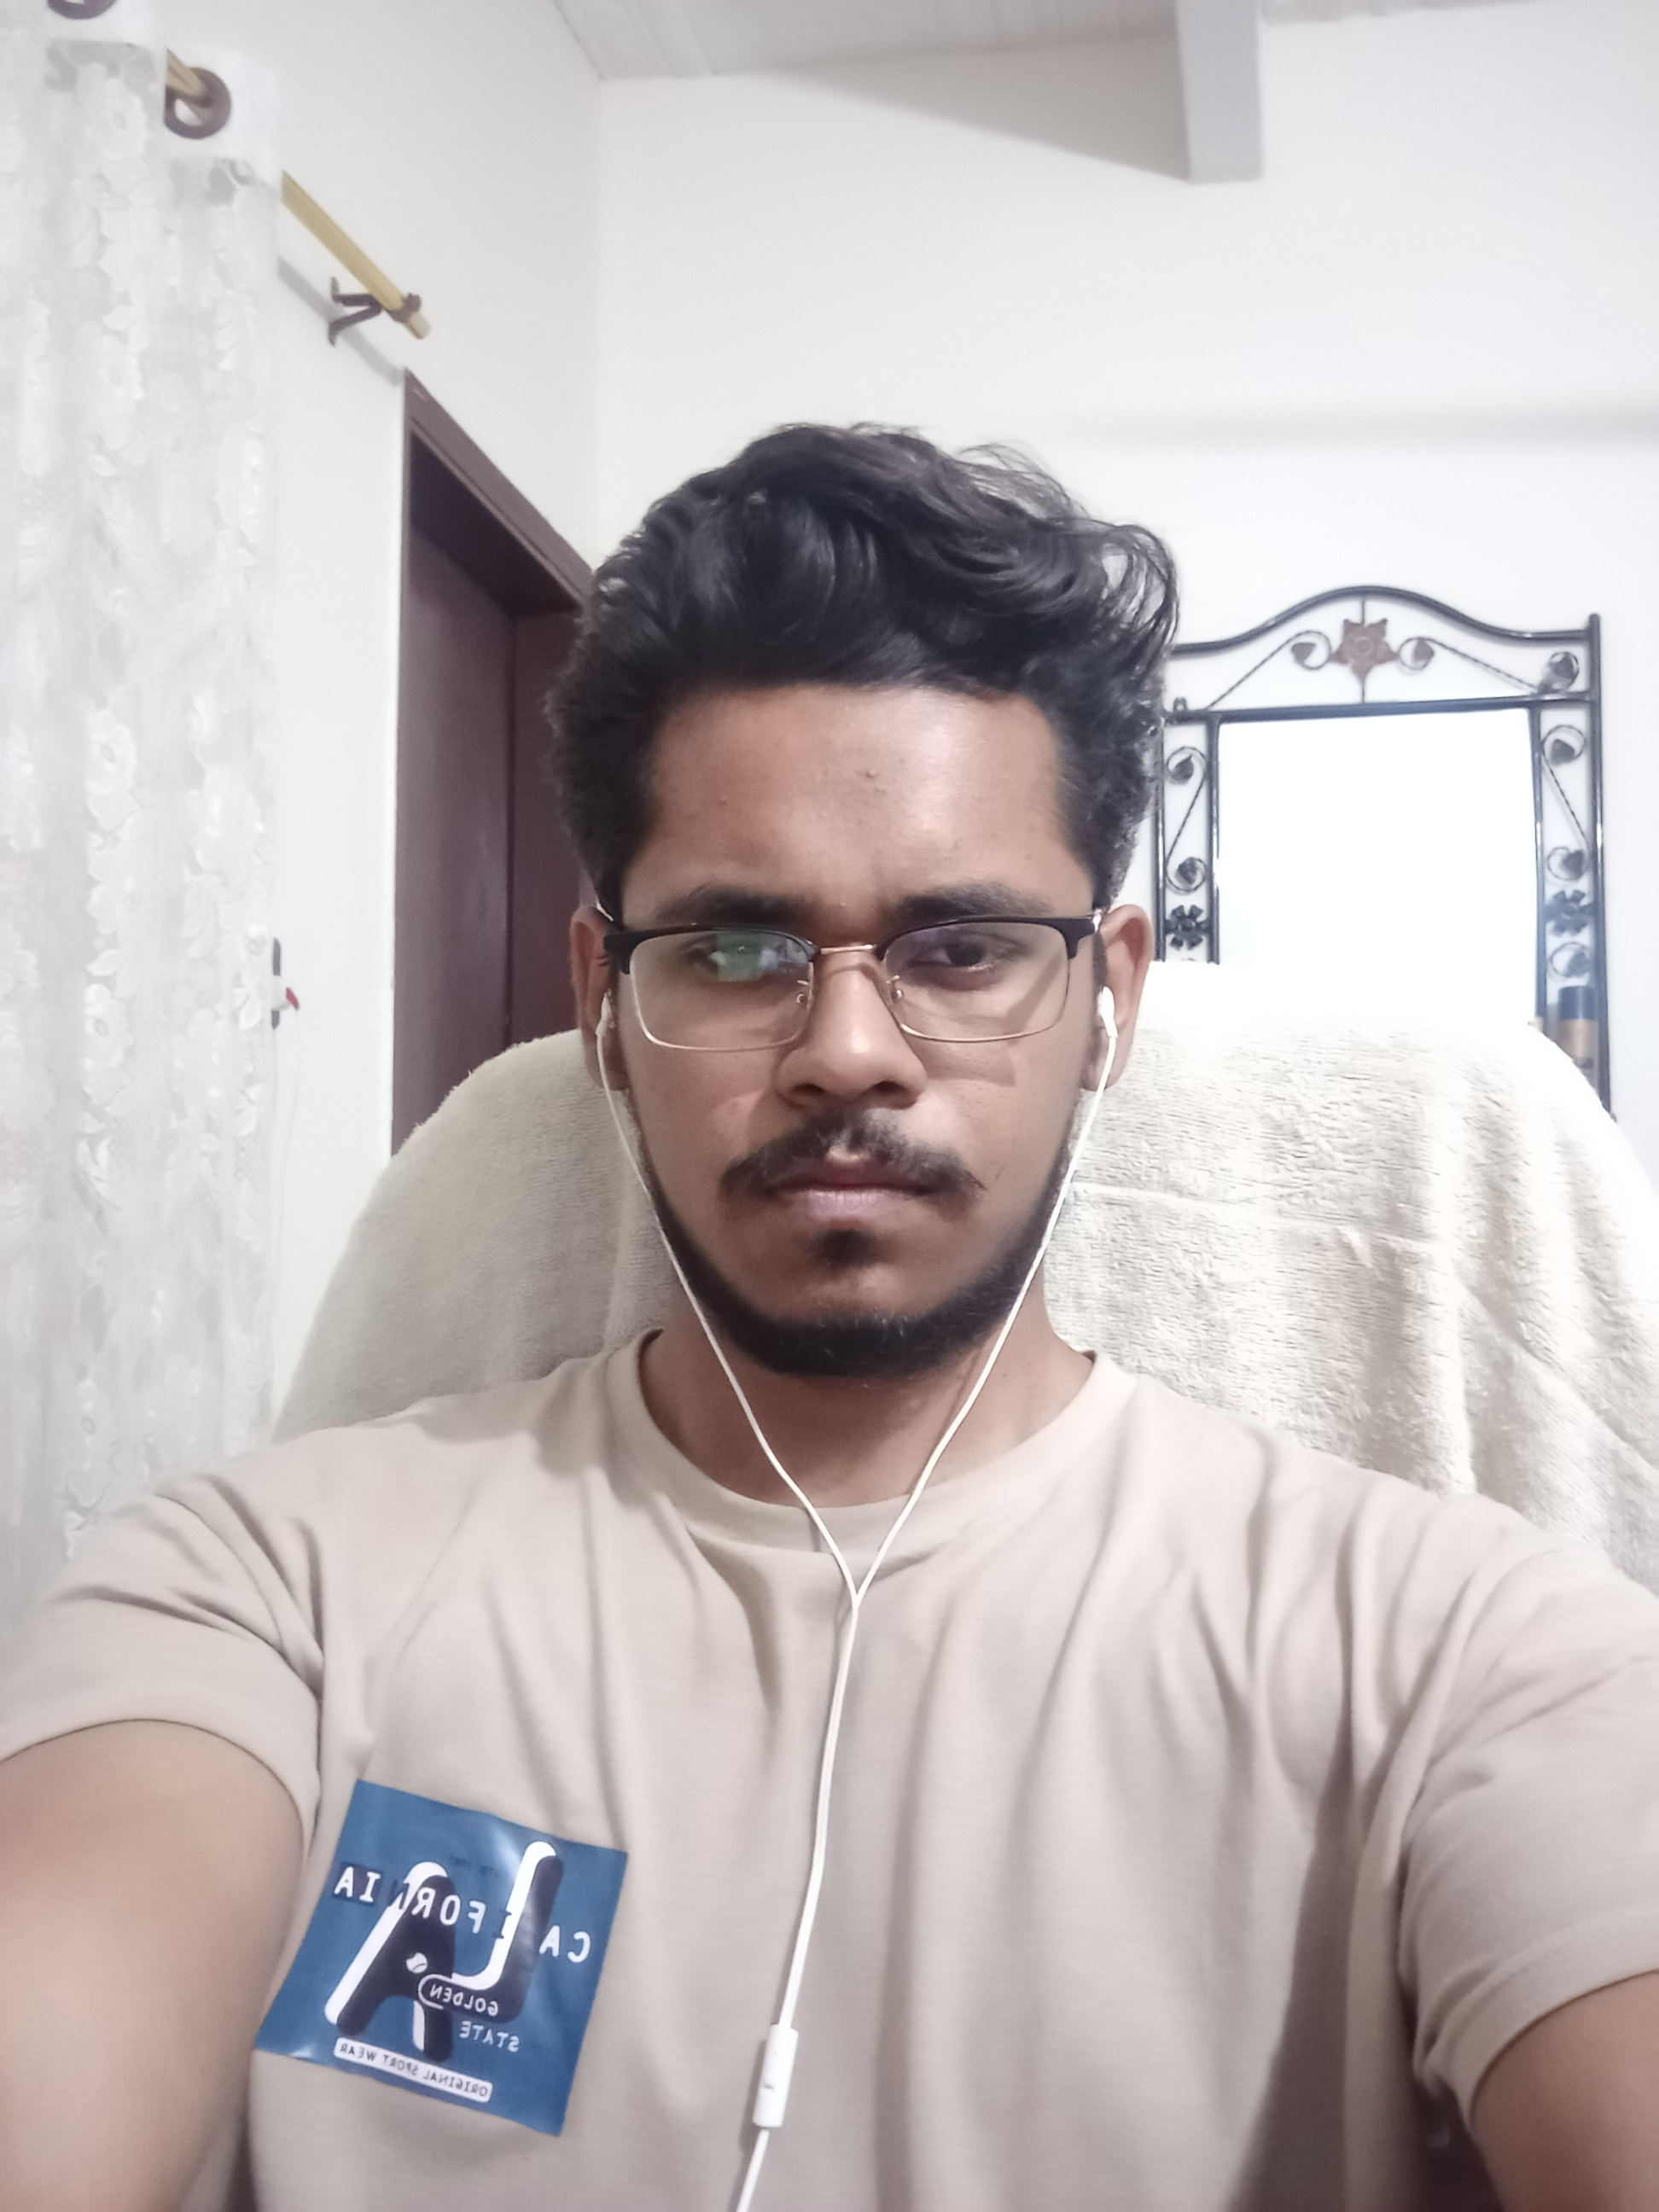NoMask: (638, 847, 1068, 1372)
